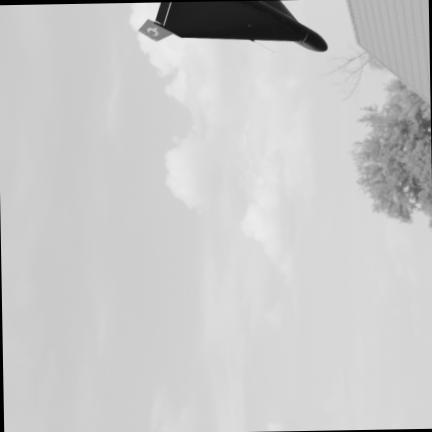Shahed: (139, 0, 326, 50)
